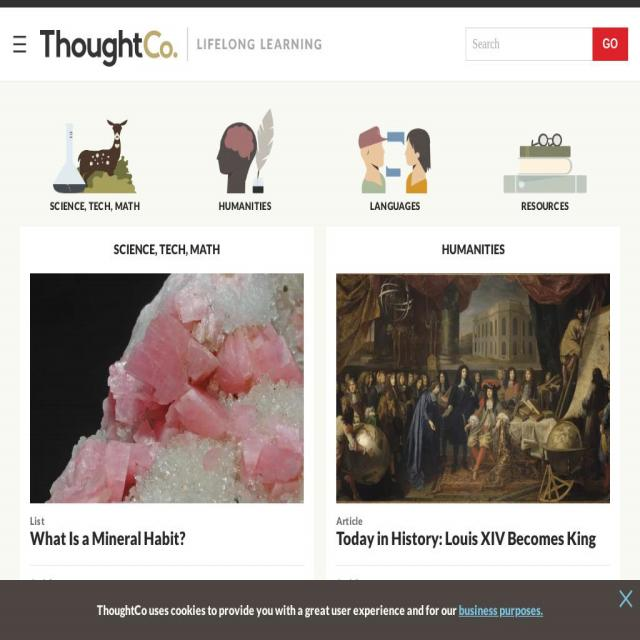navigation-blocks: (22, 90, 622, 560)
options: (5, 28, 31, 57)
search: (468, 27, 636, 63)
